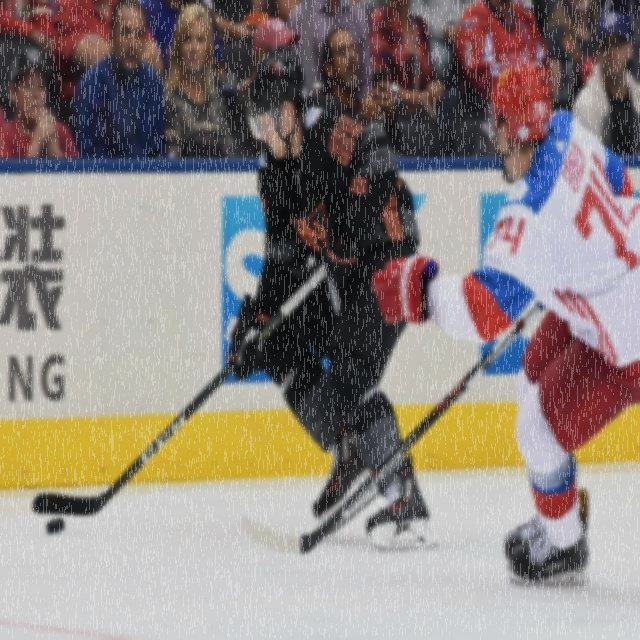pessoa: (370, 55, 640, 588), (224, 44, 438, 552), (72, 0, 174, 161), (367, 0, 466, 160), (204, 0, 303, 158), (158, 3, 240, 158), (317, 23, 408, 153), (570, 9, 640, 158), (454, 0, 554, 102), (125, 0, 205, 88), (544, 0, 601, 115), (406, 0, 476, 85), (0, 0, 63, 84), (626, 0, 640, 154), (0, 84, 14, 161)
